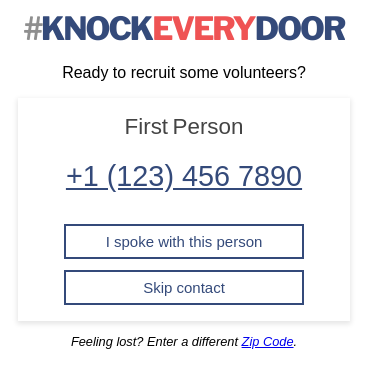
Test case: Display Queued Contacts › renders the next contact when the user is ready
The width and height of the screenshot is (369, 366).
Expected: the text with test id "givenName" reads "First", [124,114,168,139]
Click the button with test id "action:called" at coordinates (184, 241), box [64,224,304,259]
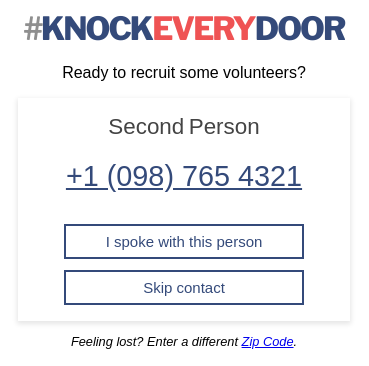
Now the text with test id "givenName" reads "Second", box [108,114,184,139]
